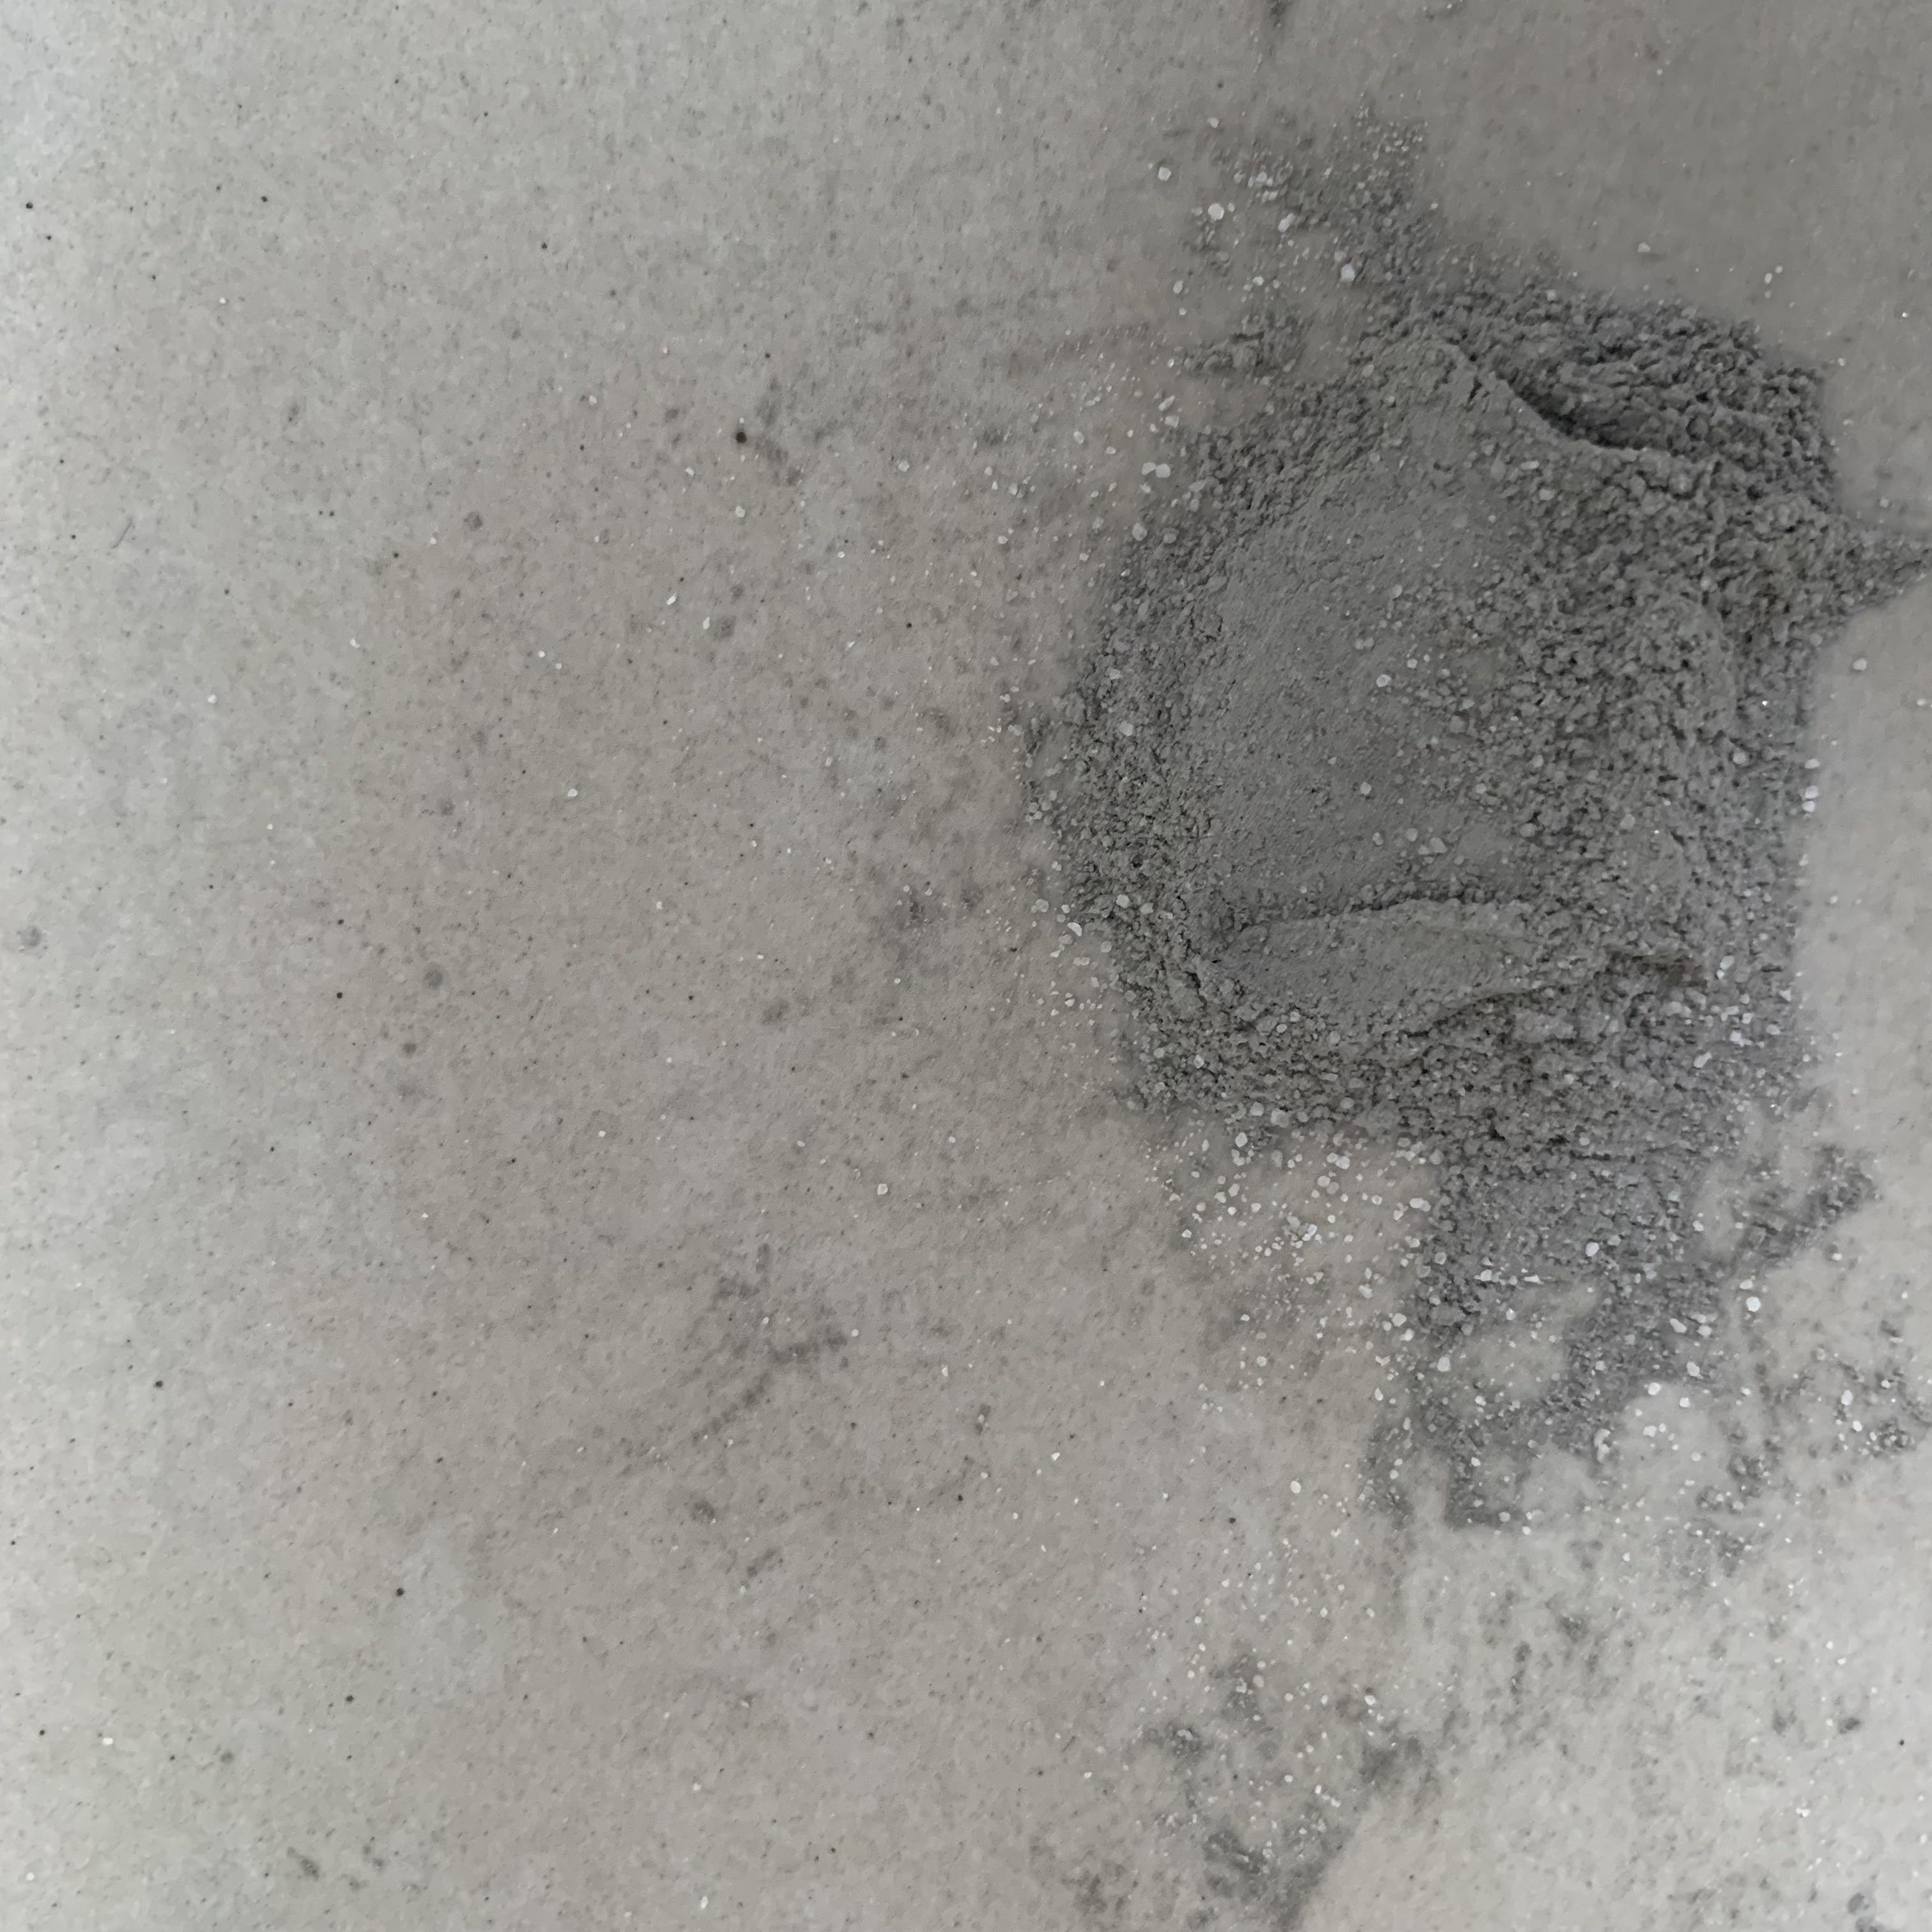ash pile: (711, 106, 1932, 1932)
